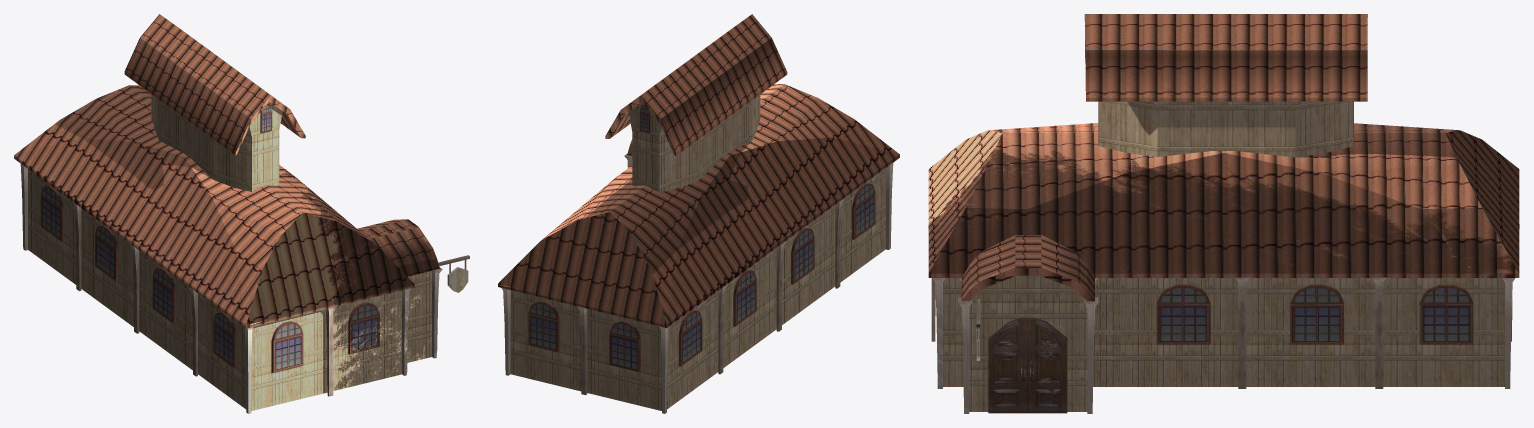
The model's file is Armazem.fbx.
3 renders of one model, left to right at view 1: azimuth 30°, elevation 25°; view 2: azimuth 150°, elevation 25°; view 3: azimuth 270°, elevation 25°, orthographic. The views are drawn at different scales.
Visible parts, largest first — view 1: Gom_Armazem_00; view 2: Gom_Armazem_00; view 3: Gom_Armazem_00.
Boxes of the visible parts, box(x1,y1,x2,y2) form: Gom_Armazem_00: box(14, 14, 469, 413); Gom_Armazem_00: box(498, 14, 899, 413); Gom_Armazem_00: box(928, 14, 1519, 413).
Bounding box in the file's own units: 7.92 × 8 × 13.15.
